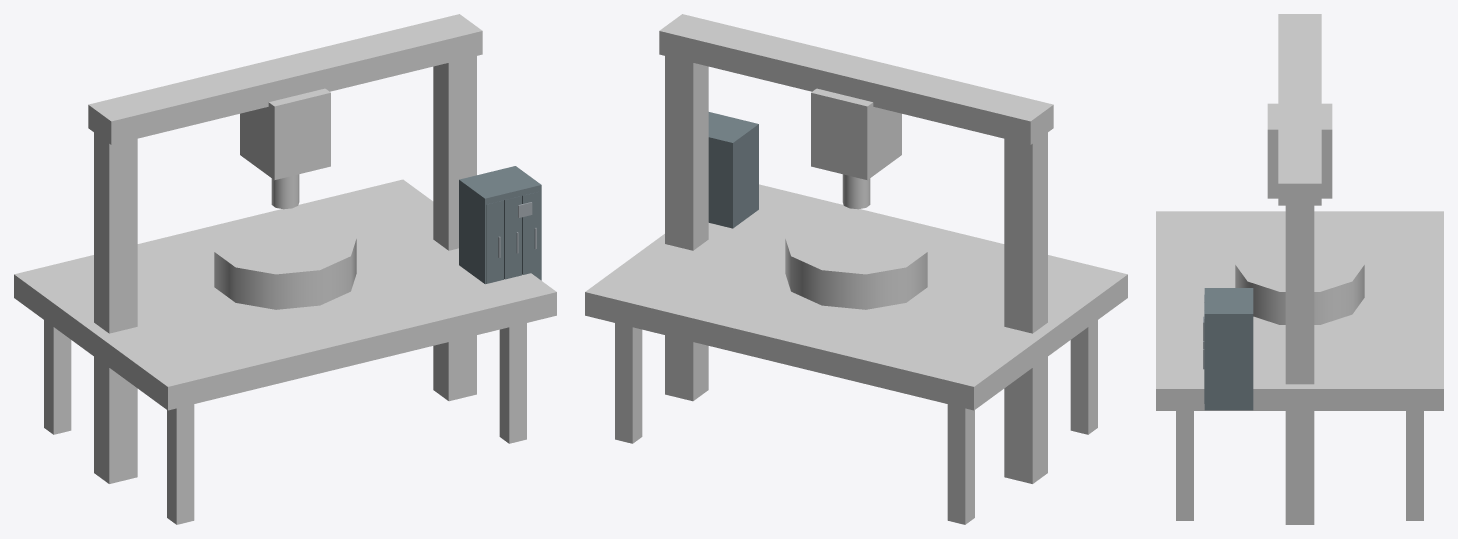
3 views of the same model, side by side, from view 1: azimuth 30°, elevation 25°; view 2: azimuth 150°, elevation 25°; view 3: azimuth 270°, elevation 25° (orthographic). The views are drawn at different scales.
Parts seen in each view (by area): view 1: worktable_5, crossbeam_9, column_7, fixture_12, column_8, tie_head_10, leg_2, leg_4, leg_1, g0.010, g0.002, g0 (+3 smaller); view 2: worktable_5, crossbeam_9, column_7, fixture_12, column_8, tie_head_10, leg_1, leg_3, leg_2, g0.010, g0.005, g0.002 (+1 smaller); view 3: worktable_5, column_8, crossbeam_9, fixture_12, g0.007, tie_head_10, leg_3, leg_4, g0.002.
Part boxes in pixels (x1,y1,x2,y2): worktable_5: (14, 179, 556, 410); crossbeam_9: (88, 14, 482, 144); column_7: (94, 132, 137, 483); fixture_12: (214, 215, 356, 309); column_8: (433, 56, 476, 401); tie_head_10: (240, 88, 330, 180); leg_2: (167, 404, 194, 524); leg_4: (499, 323, 526, 443); leg_1: (44, 320, 71, 434); g0.010: (459, 179, 488, 284); g0.002: (464, 168, 538, 203); g0: (486, 200, 503, 283); worktable_5: (585, 184, 1127, 410); crossbeam_9: (659, 14, 1053, 144); column_7: (1004, 132, 1047, 483); fixture_12: (785, 215, 927, 309); column_8: (665, 56, 708, 401); tie_head_10: (811, 88, 901, 180); leg_1: (947, 404, 974, 524); leg_3: (615, 323, 642, 443); leg_2: (1070, 320, 1097, 434); g0.010: (729, 123, 758, 228); g0.005: (708, 135, 730, 227); g0.002: (708, 112, 754, 148); worktable_5: (1156, 211, 1443, 410); column_8: (1285, 205, 1314, 524); crossbeam_9: (1278, 14, 1321, 205); fixture_12: (1235, 236, 1364, 324); g0.007: (1204, 312, 1253, 410); tie_head_10: (1267, 103, 1332, 198); leg_3: (1406, 411, 1423, 520); leg_4: (1176, 411, 1193, 520); g0.002: (1204, 289, 1252, 312).
Bounding box in the file's own units: 2.4 × 2.1 × 1.6.
